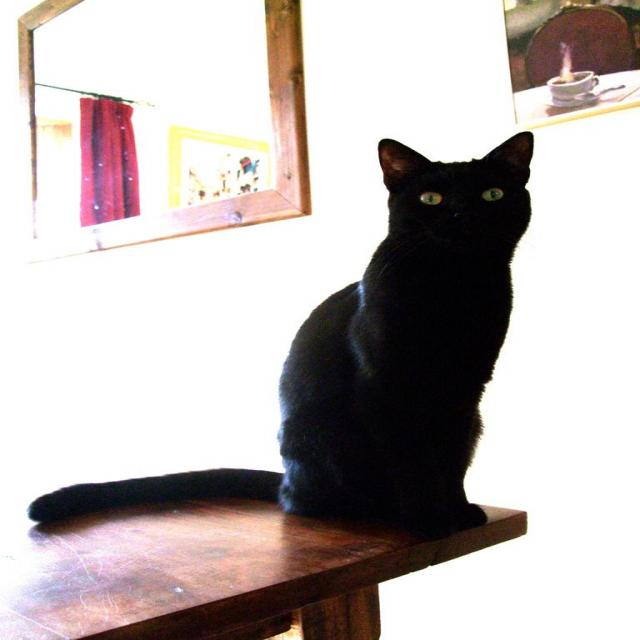Table: (0, 458, 528, 640)
